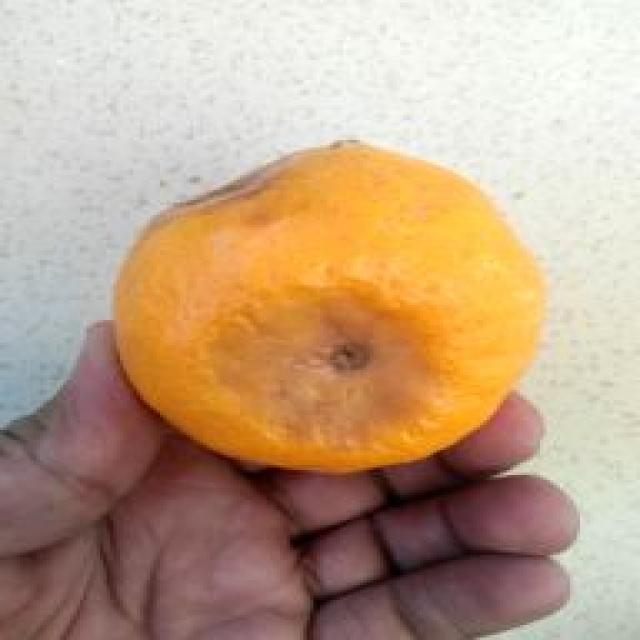Bad_Orange: (115, 141, 545, 472)
